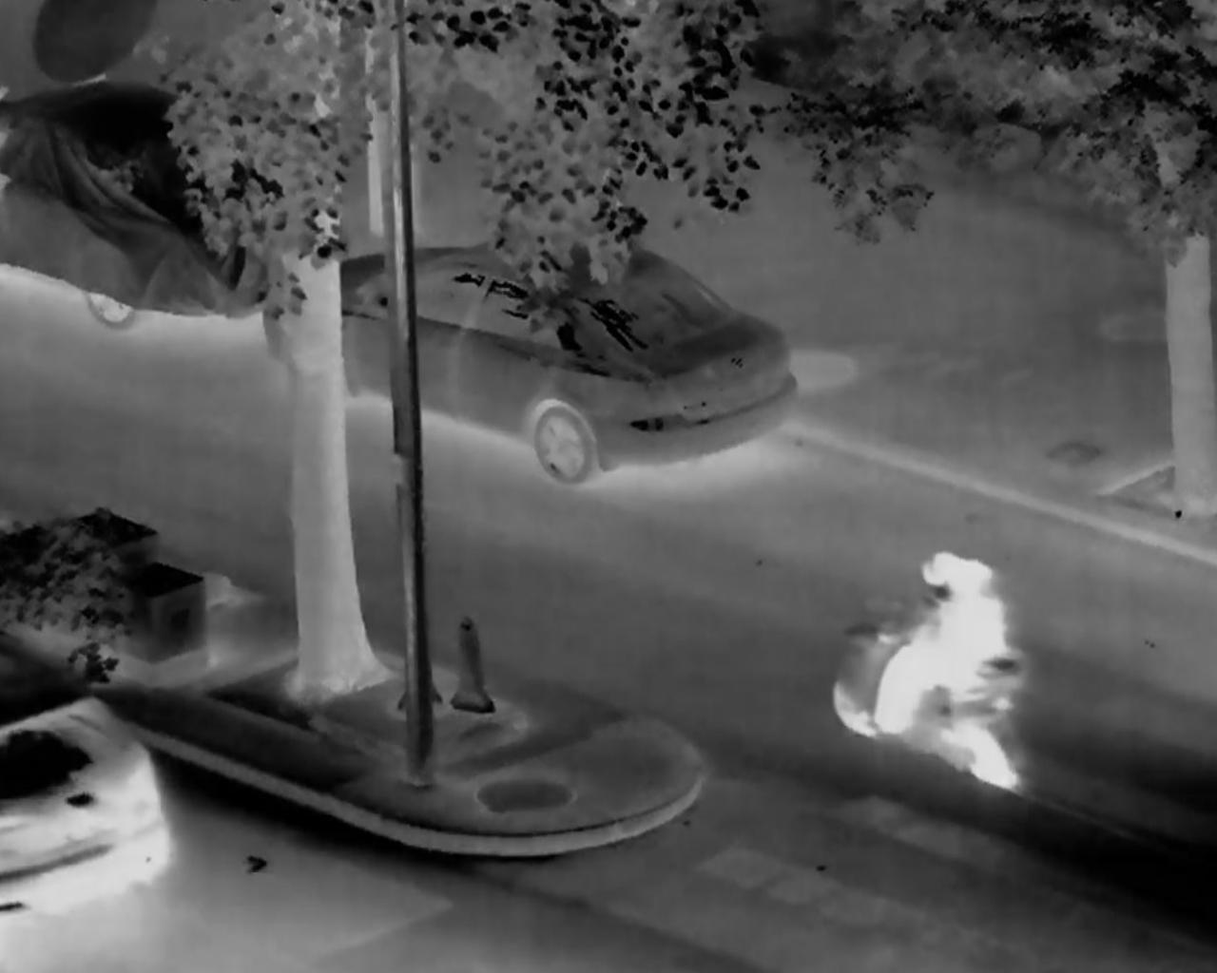person: (879, 555, 1007, 735)
